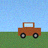vehicle: (18, 22, 41, 38)
